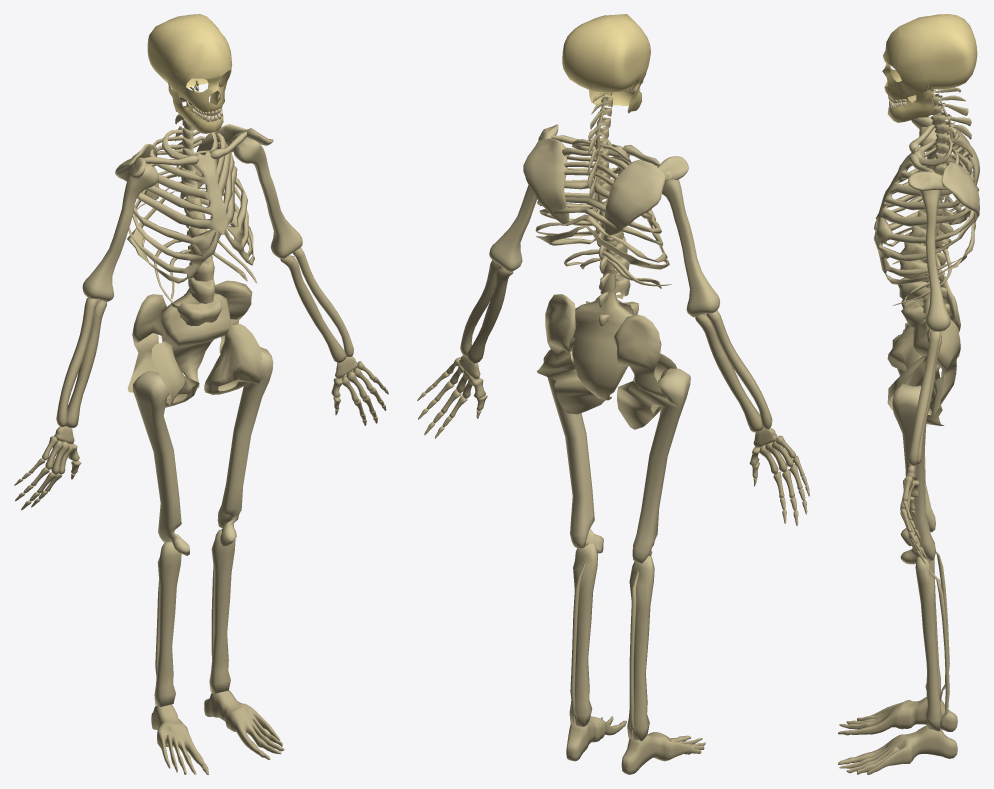
The model's file is skeleton.glb.
3 renders of one model, left to right at view 1: azimuth 30°, elevation 25°; view 2: azimuth 150°, elevation 25°; view 3: azimuth 270°, elevation 25°, orthographic. The views are drawn at different scales.
Parts seen in each view (by area): view 1: Rib Cage_0, Femur_0, Ilium_0, Skull_0, Tibia_0, Humerus_0, Feet_0, Cube_0, Spine2_0, spine_0, Ulna_0, Radius_0 (+1 smaller); view 2: Ilium_0, Femur_0, Tibia_0, Clavicle And Shoulder_0, Rib Cage_0, Skull_0, spine_0, Cube_0, Humerus_0, Feet_0, Spine2_0, Ulna_0 (+1 smaller); view 3: Skull_0, Rib Cage_0, Feet_0, Spine2_0, Ilium_0, Tibia_0, Femur_0, Clavicle And Shoulder_0, Humerus_0, Radius_0, Cube_0, spine_0 (+1 smaller).
Boxes of the visible parts, x1=… form: Rib Cage_0: x1=127, y1=128, x2=256, y2=303; Femur_0: x1=133, y1=347, x2=273, y2=555; Ilium_0: x1=127, y1=280, x2=262, y2=407; Skull_0: x1=147, y1=14, x2=232, y2=133; Tibia_0: x1=154, y1=529, x2=235, y2=706; Humerus_0: x1=82, y1=137, x2=302, y2=302; Feet_0: x1=151, y1=690, x2=284, y2=774; Cube_0: x1=14, y1=356, x2=388, y2=510; Spine2_0: x1=171, y1=81, x2=221, y2=325; spine_0: x1=160, y1=80, x2=230, y2=387; Ulna_0: x1=66, y1=255, x2=346, y2=428; Radius_0: x1=56, y1=247, x2=353, y2=426; Ilium_0: x1=537, y1=294, x2=676, y2=429; Femur_0: x1=543, y1=349, x2=690, y2=563; Tibia_0: x1=569, y1=543, x2=654, y2=741; Clavicle And Shoulder_0: x1=523, y1=124, x2=688, y2=235; Rib Cage_0: x1=535, y1=139, x2=671, y2=288; Skull_0: x1=562, y1=14, x2=650, y2=113; spine_0: x1=572, y1=95, x2=633, y2=400; Cube_0: x1=417, y1=355, x2=809, y2=525; Humerus_0: x1=489, y1=141, x2=720, y2=317; Feet_0: x1=566, y1=716, x2=705, y2=774; Spine2_0: x1=586, y1=92, x2=638, y2=326; Ulna_0: x1=466, y1=267, x2=762, y2=432; Skull_0: x1=882, y1=14, x2=977, y2=122; Rib Cage_0: x1=873, y1=128, x2=979, y2=305; Feet_0: x1=838, y1=696, x2=957, y2=774; Spine2_0: x1=898, y1=87, x2=972, y2=327; Ilium_0: x1=887, y1=276, x2=960, y2=425; Tibia_0: x1=915, y1=551, x2=949, y2=731; Femur_0: x1=892, y1=334, x2=935, y2=564; Clavicle And Shoulder_0: x1=908, y1=117, x2=979, y2=223; Humerus_0: x1=919, y1=126, x2=950, y2=331; Radius_0: x1=908, y1=330, x2=940, y2=465; Cube_0: x1=900, y1=323, x2=926, y2=563; spine_0: x1=913, y1=89, x2=956, y2=374.
Size of the model in its own units: 5.93 by 10.79 by 1.9.
